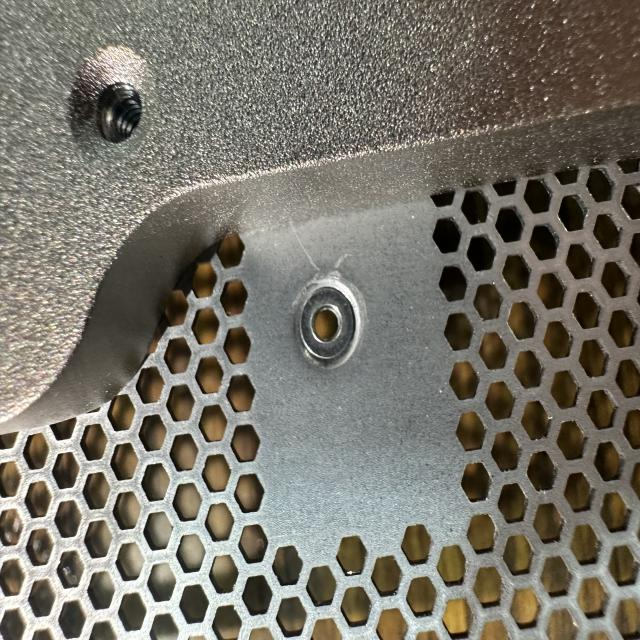Missing screw: (288, 272, 370, 377)
